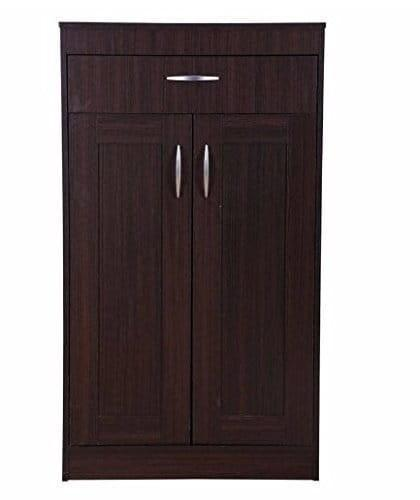Armario: (51, 17, 326, 485)
